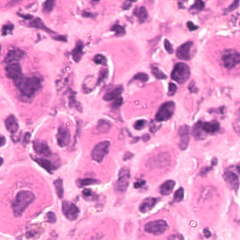New: (1, 163, 56, 240), (75, 116, 125, 188), (200, 34, 240, 83), (134, 207, 179, 240), (64, 215, 120, 240)
